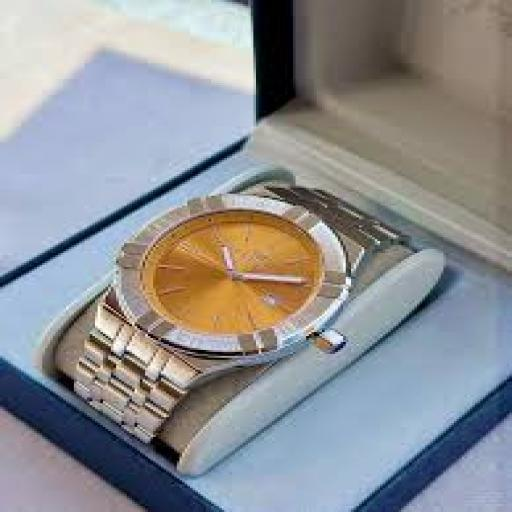KolSaati: (50, 155, 452, 442)
